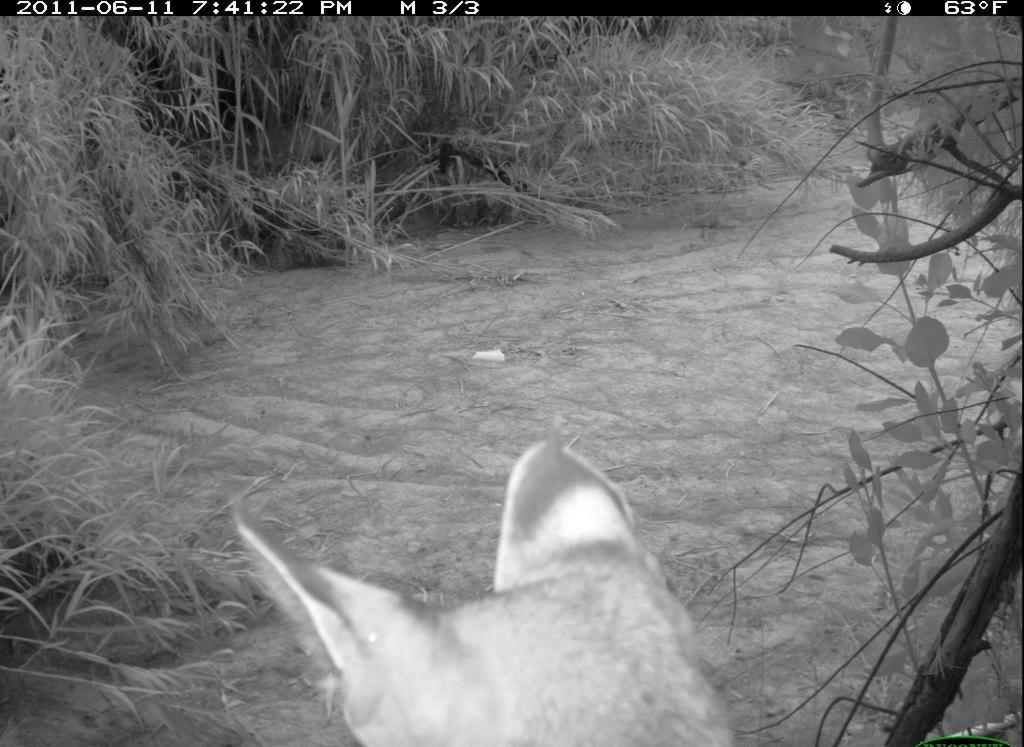bobcat: (209, 413, 752, 747)
